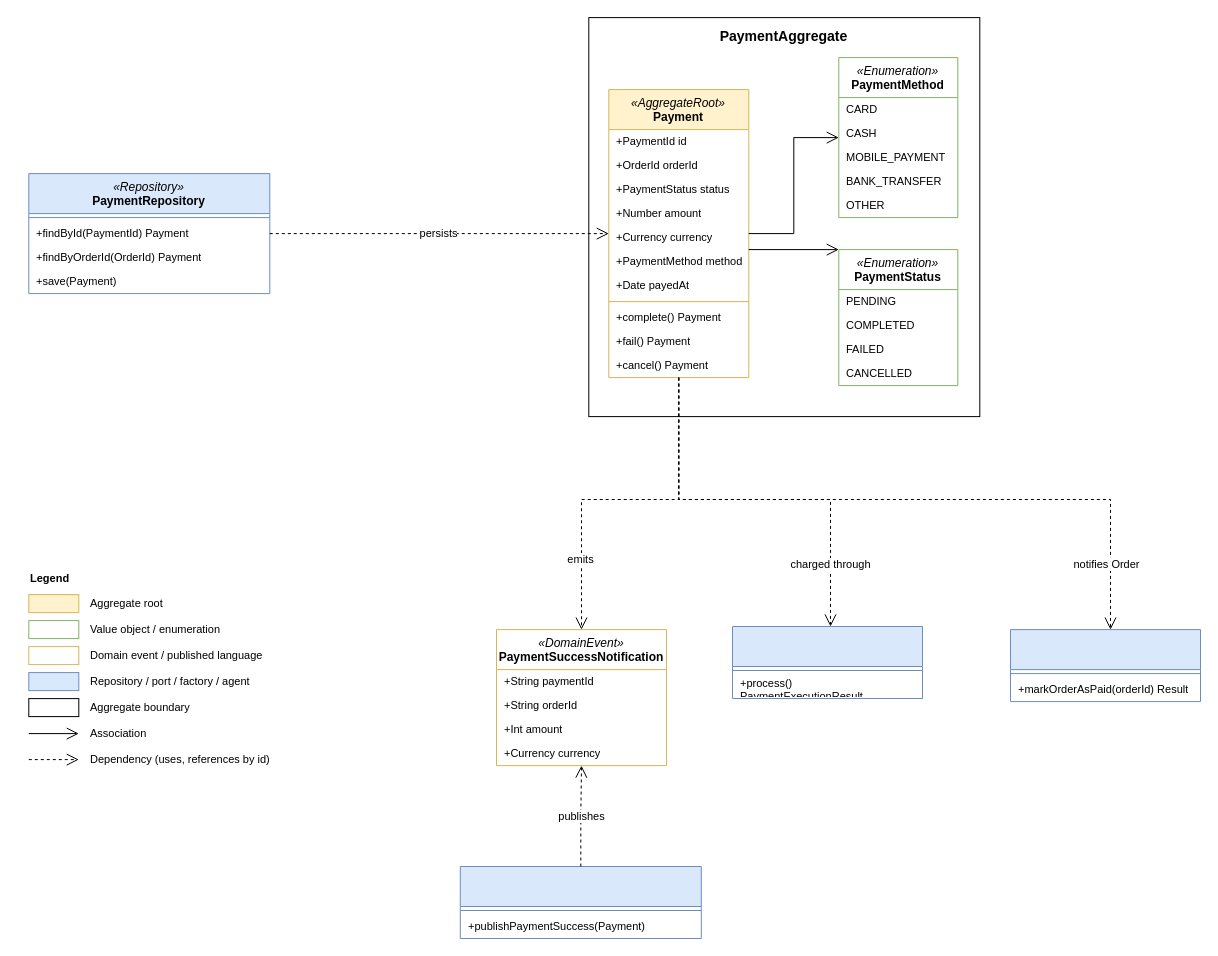
Image size: 1218x956. Some labels were removed from this diagram. The box of each missing label's shape, as (x1, y1, x2, y2) in pixels:
«Port» OrderServiceClient: (1010, 629, 1200, 702)
«Port» PaymentGateway: (732, 626, 922, 698)
«Port» PaymentNotificationPublisher: (459, 866, 701, 938)
